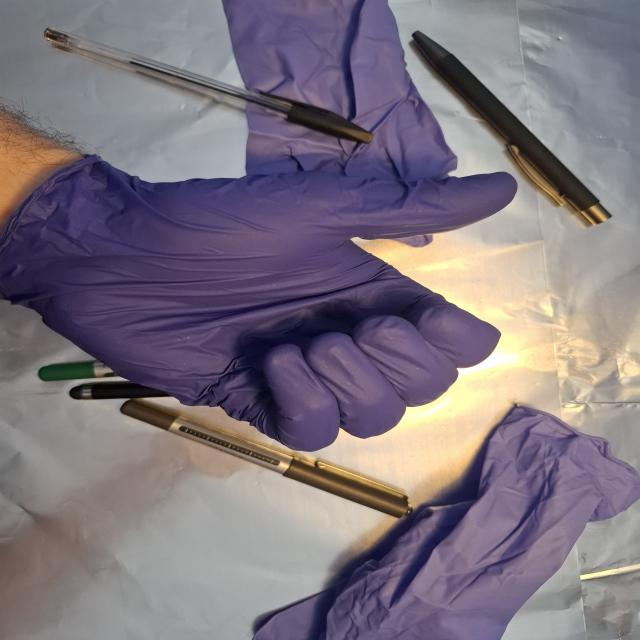glove_on: (2, 151, 522, 456)
